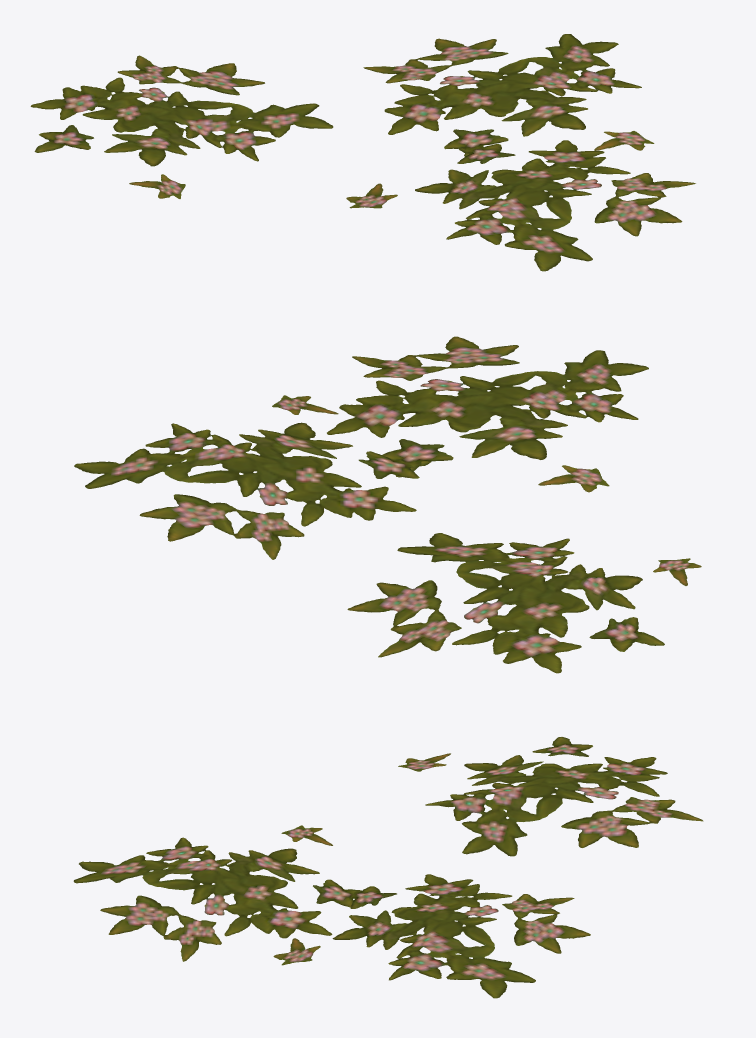
File: Battle01_Cao_02.FBX
The picture shows the model from 3 angles, top to bottom: view 1: azimuth 30°, elevation 25°; view 2: azimuth 150°, elevation 25°; view 3: azimuth 270°, elevation 25°; orthographic projection. The views are drawn at different scales.
Visible parts, largest first — view 1: C01_Cao_02; view 2: C01_Cao_02; view 3: C01_Cao_02.
Boxes of the visible parts, left/top/right/bottom form: C01_Cao_02: left=30, top=34, right=695, bottom=271; C01_Cao_02: left=74, top=336, right=701, bottom=673; C01_Cao_02: left=73, top=737, right=703, bottom=998.
Size of the model in its own units: 0.9321 by 0.0284 by 0.9863.
